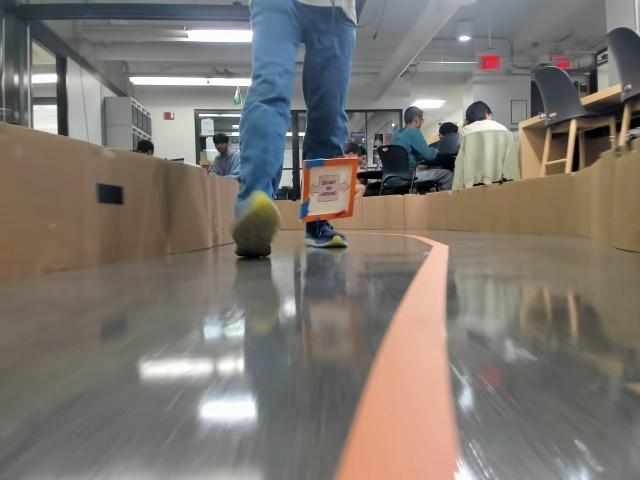Do Not Go Around: (308, 177, 346, 203)
